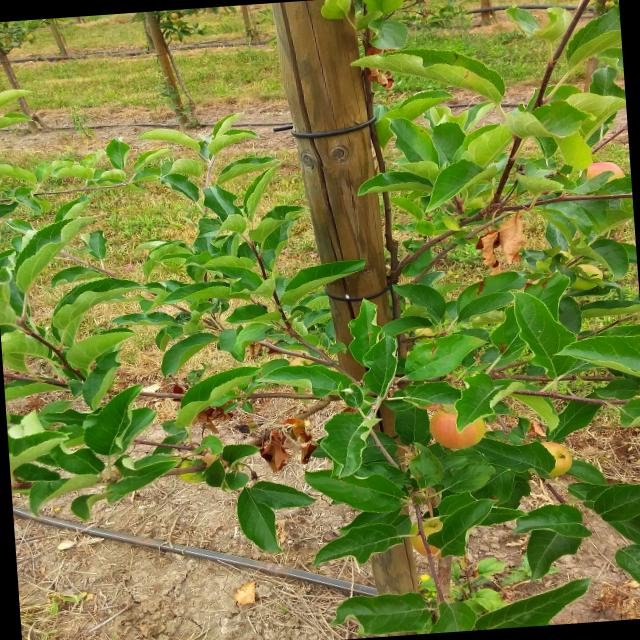-FireBlight-: (288, 416, 316, 462), (262, 426, 288, 473)
